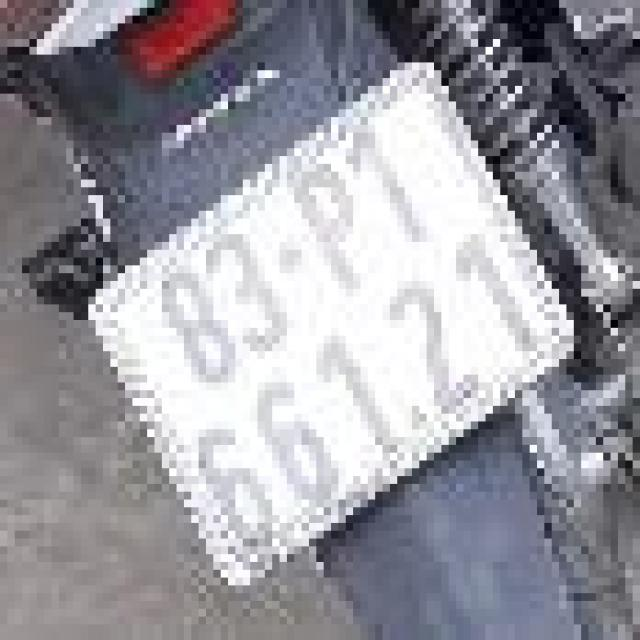1: (440, 223, 569, 381), (331, 114, 447, 268), (307, 318, 418, 474)
2: (368, 274, 505, 429)
3: (192, 217, 313, 372)
6: (236, 368, 361, 531), (175, 411, 297, 556)
8: (143, 255, 260, 405)
P: (276, 148, 402, 315)
